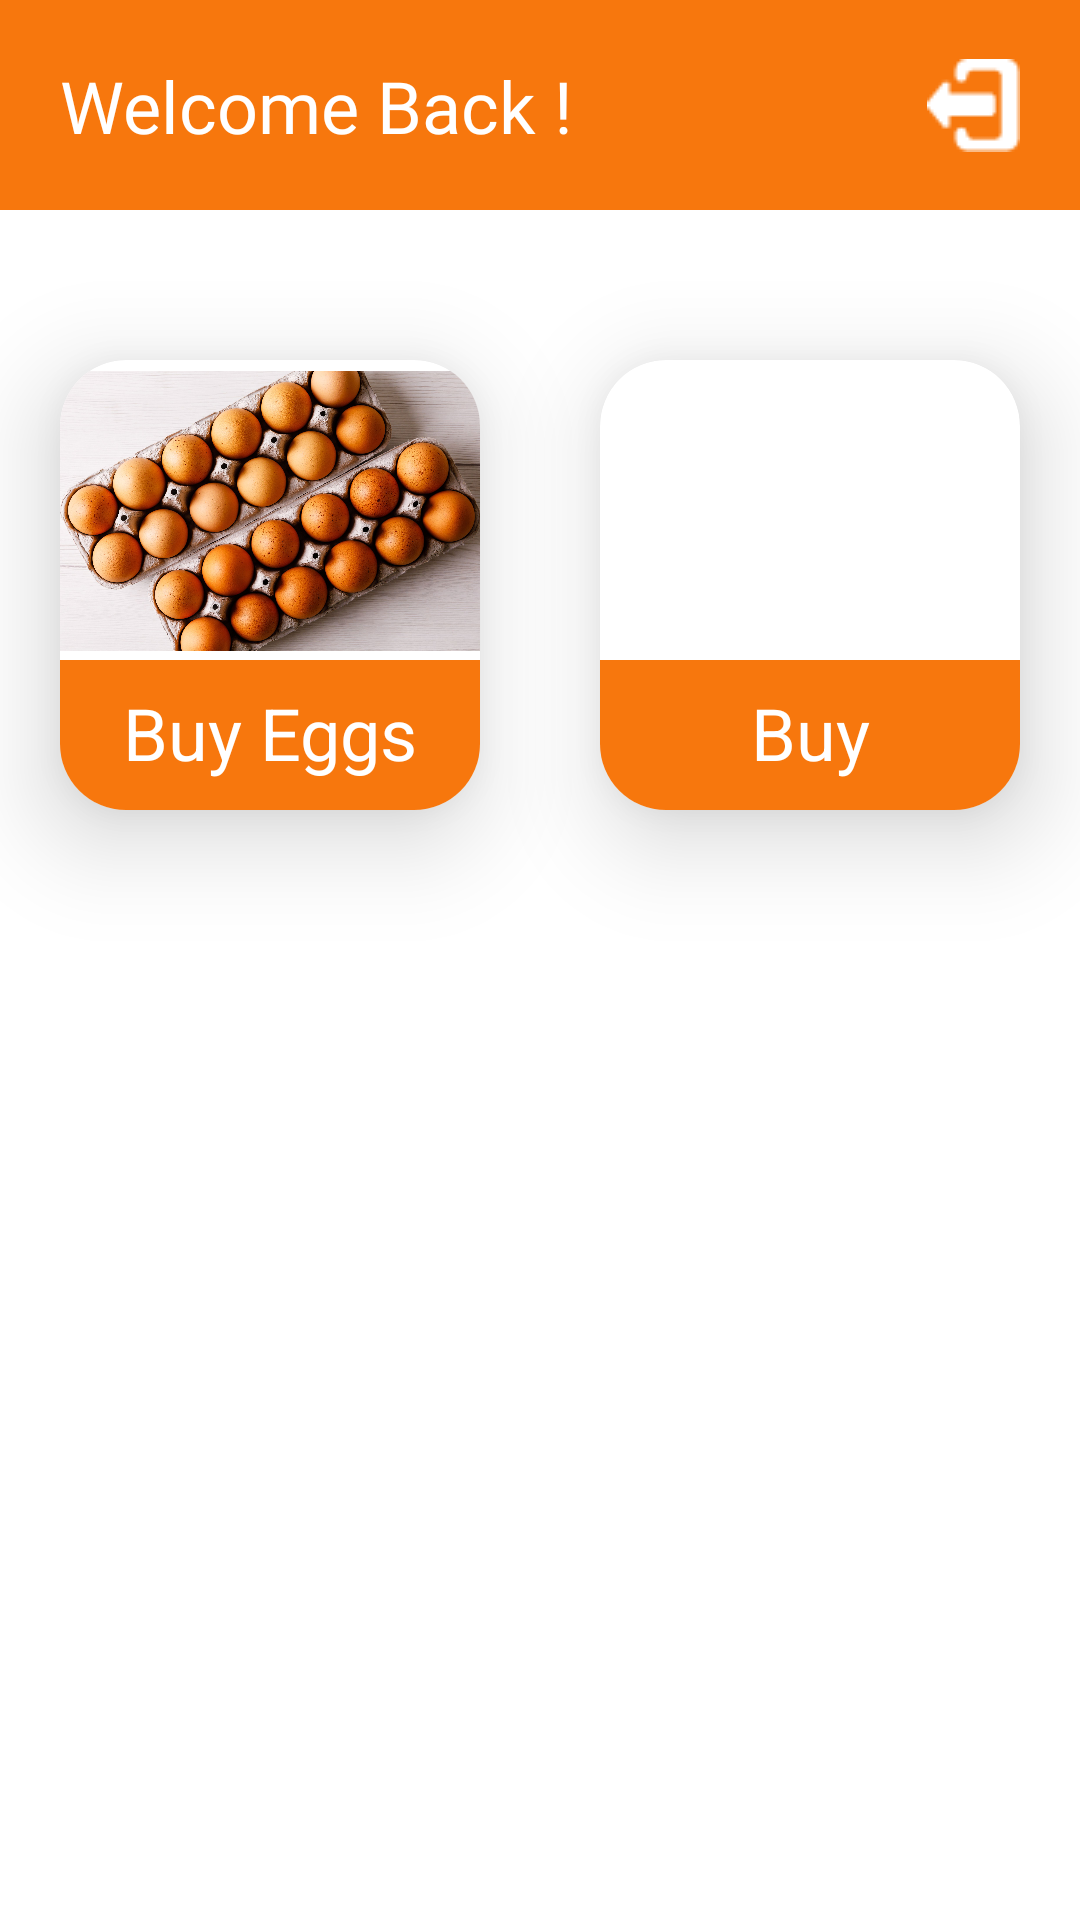

Screen size 1080 x 1920. Icon name, then its box in pixels as (x1, y1, x2, y2):
exiticon: (927, 59, 1020, 152)
